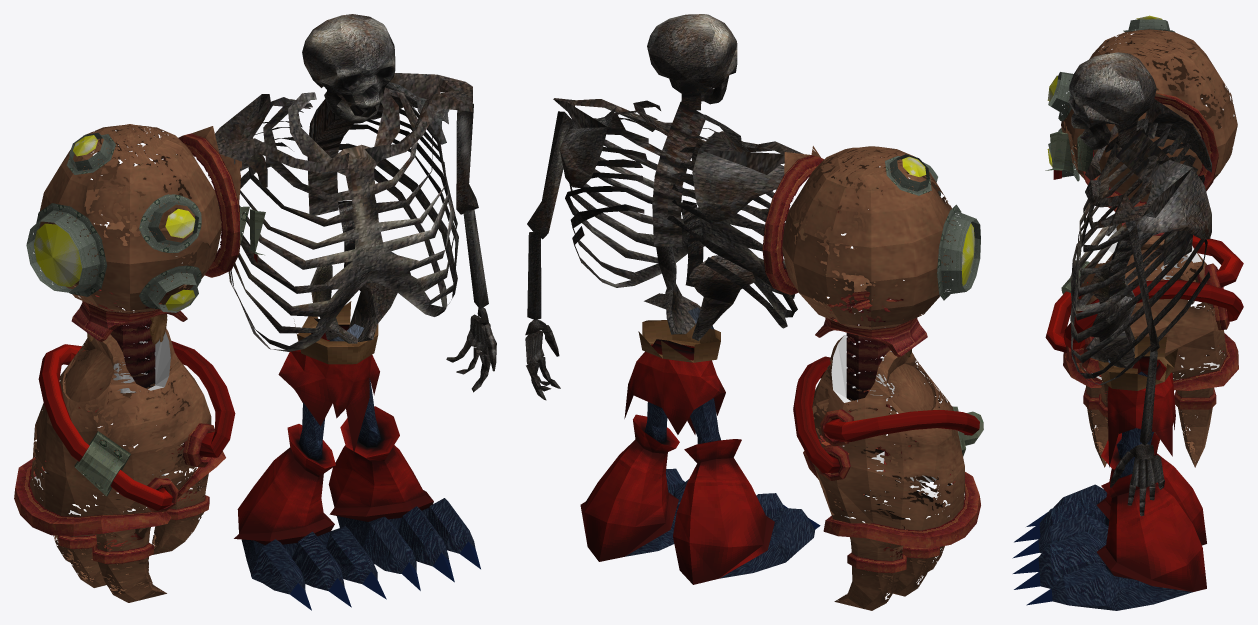
The model's file is ogreboss-lod0.glb.
The picture shows the model from 3 angles, left to right: view 1: azimuth 30°, elevation 25°; view 2: azimuth 150°, elevation 25°; view 3: azimuth 270°, elevation 25°; orthographic projection. The views are drawn at different scales.
Parts seen in each view (by area): view 1: ogreboss-lod0, mesh0000; view 2: ogreboss-lod0, mesh0000; view 3: ogreboss-lod0, mesh0000.
Boxes of the visible parts, <box> form: ogreboss-lod0: <box>14,124,480,610</box>; mesh0000: <box>215,14,496,392</box>; ogreboss-lod0: <box>580,146,983,610</box>; mesh0000: <box>525,14,802,400</box>; ogreboss-lod0: <box>1012,15,1243,610</box>; mesh0000: <box>1068,52,1211,516</box>.
Size of the model in its own units: 12.98 by 14.56 by 6.03.
15 materials, 15 textured.
